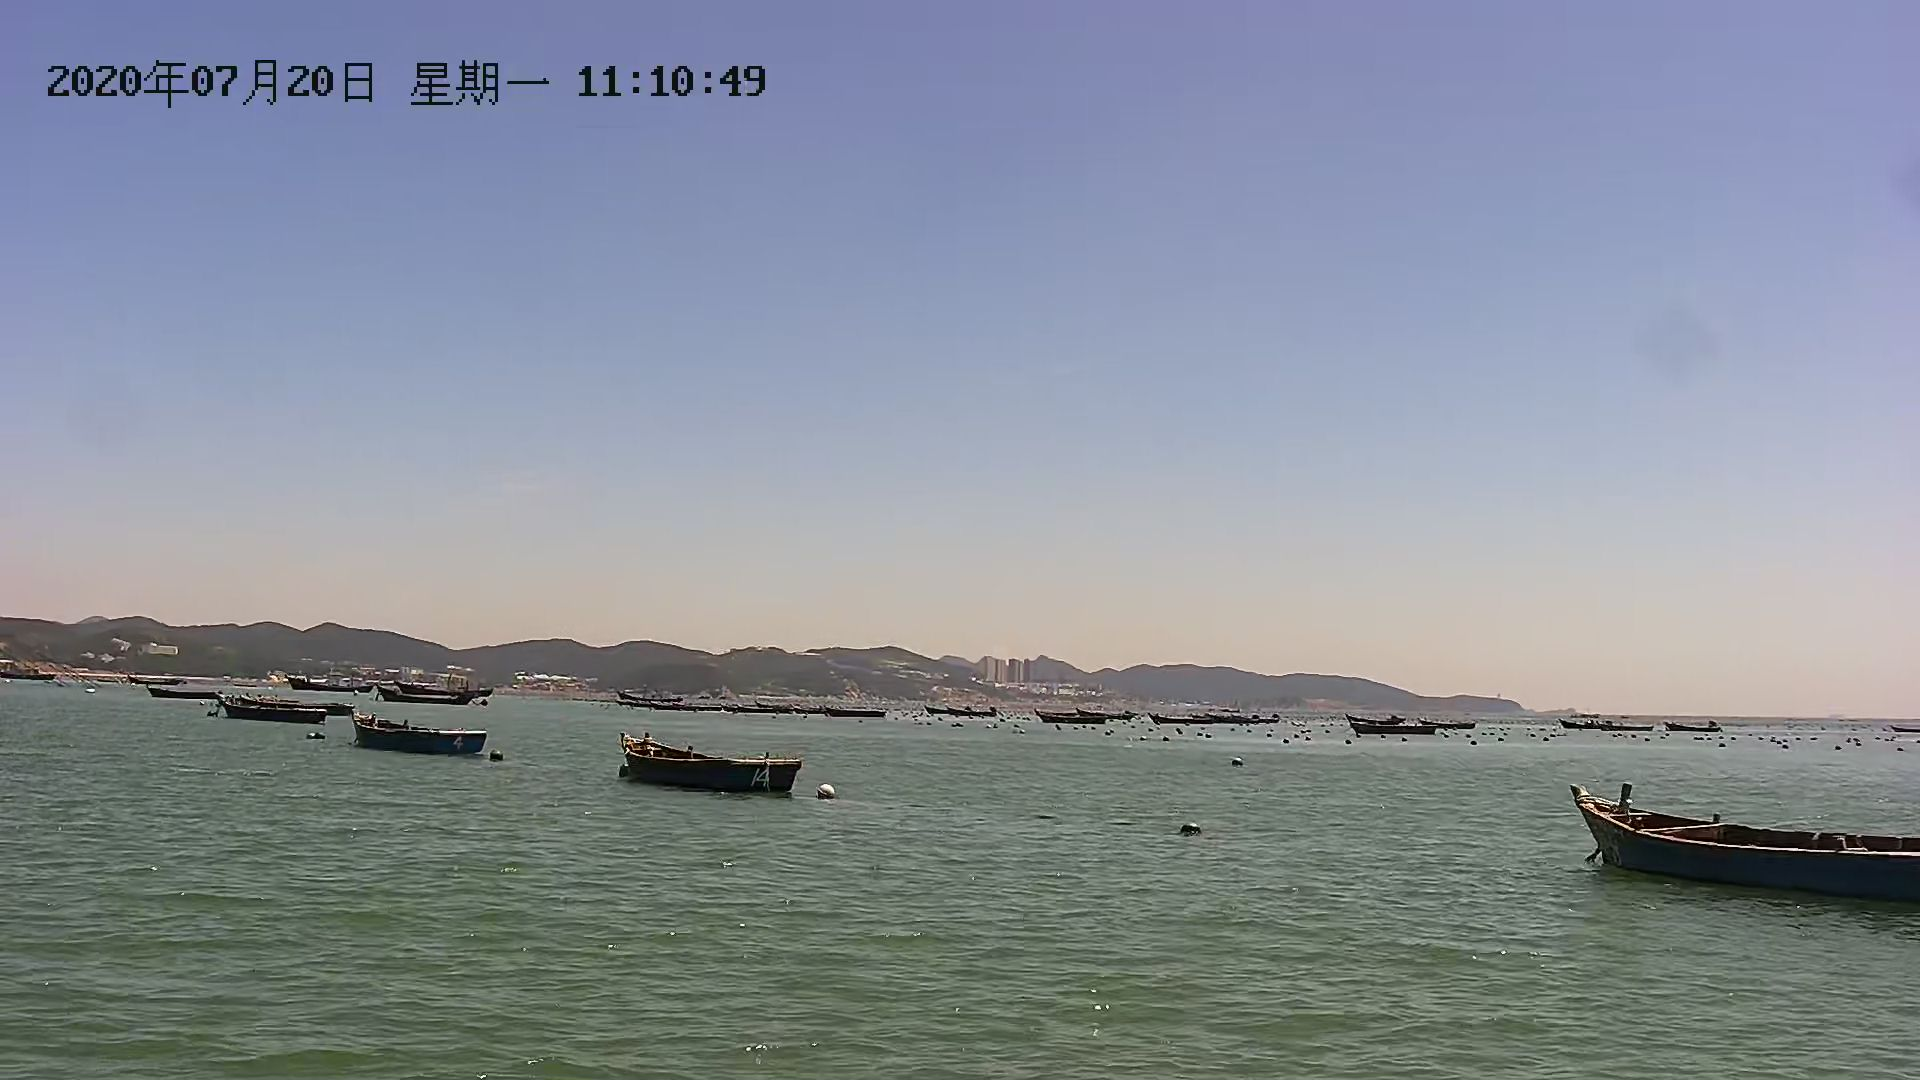ball: (1171, 819, 1215, 843), (812, 783, 843, 804), (489, 750, 506, 764)
boat: (1555, 793, 1920, 905), (603, 729, 804, 795), (351, 712, 488, 760), (222, 698, 340, 731)
